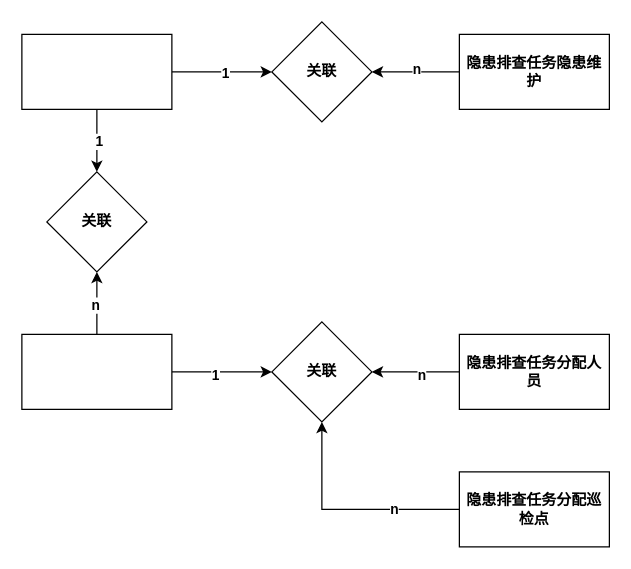
Image size: 631x569. Some labels were removed from this diagram. The shapes that lost their labels are listed below. From the top down, each one's box as (x1, y1, x2, y2) in pixels, then its label:
(21, 33, 172, 109): 隐患排查任务信息
(21, 333, 172, 409): 隐患排查任务分配记录
